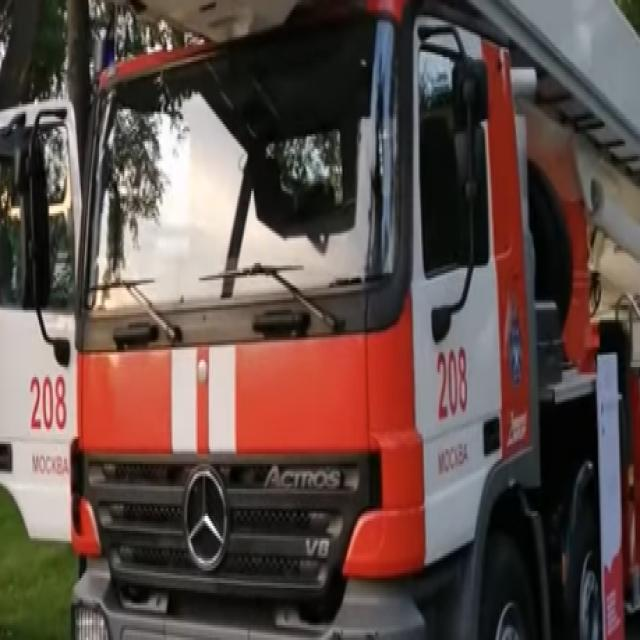fire fighting vehicle: (1, 1, 640, 640)
